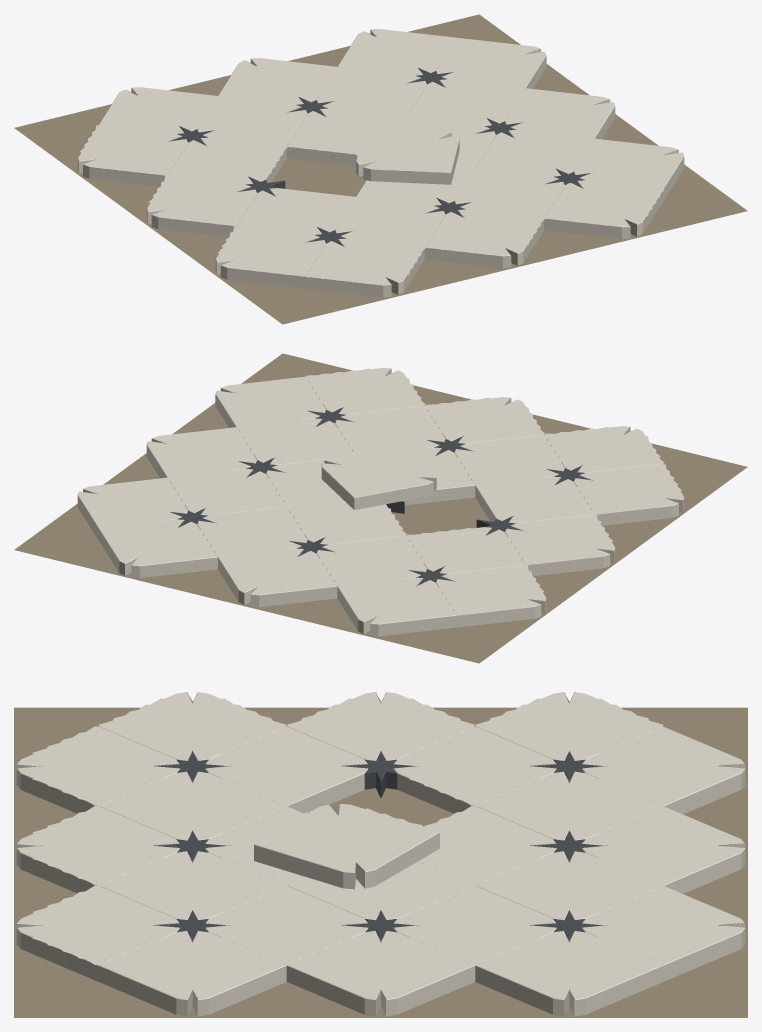
File: terilgan.glb
3 renders of one model, top to bottom at view 1: azimuth 30°, elevation 25°; view 2: azimuth 150°, elevation 25°; view 3: azimuth 270°, elevation 25°, orthographic. The views are drawn at different scales.
Visible parts, largest first — view 1: qum, t.023, t.013, t.003, t.008, t, t.002, t.001, t.025, t.028, t.031, t.009 (+13 smaller); view 2: qum, t.022, t.032, t.012, t.008, t.002, t.001, t, t.031, t.006, t.025, t.028 (+13 smaller); view 3: qum, t.008, t.028, t.025, t.031, t.032, t.023, t.022, t.012, t.003, t.013, t.009 (+21 smaller).
Boxes of the visible parts, x1,y1,x2,y2 form: qum: (14,14,747,324); t.023: (544,180,664,238); t.013: (424,209,544,268); t.003: (305,238,425,297); t.008: (356,127,459,184); t: (215,226,325,288); t.002: (77,125,187,186); t.001: (146,175,256,237); t.025: (574,138,684,200); t.028: (505,88,615,139); t.031: (436,37,546,88); t.009: (167,137,287,184); qum: (14,353,747,663); t.022: (218,548,337,607); t.032: (98,519,217,577); t.012: (337,577,456,636); t.008: (321,443,436,509); t.002: (436,565,546,627); t.001: (505,514,615,576); t: (574,464,684,525); t.031: (77,477,187,539); t.006: (475,476,595,523); t.025: (215,376,325,427); t.028: (146,427,256,478); qum: (14,707,747,1017); t.008: (254,803,439,889); t.028: (286,931,475,1016); t.025: (98,931,286,1016); t.031: (475,931,663,1016); t.032: (582,885,745,981); t.023: (16,885,179,981); t.022: (582,806,745,893); t.012: (582,726,745,814); t.003: (16,726,179,813); t.013: (16,806,179,893); t.009: (394,726,556,813).
Bounding box in the file's own units: 1.66 × 0.086 × 1.66.
